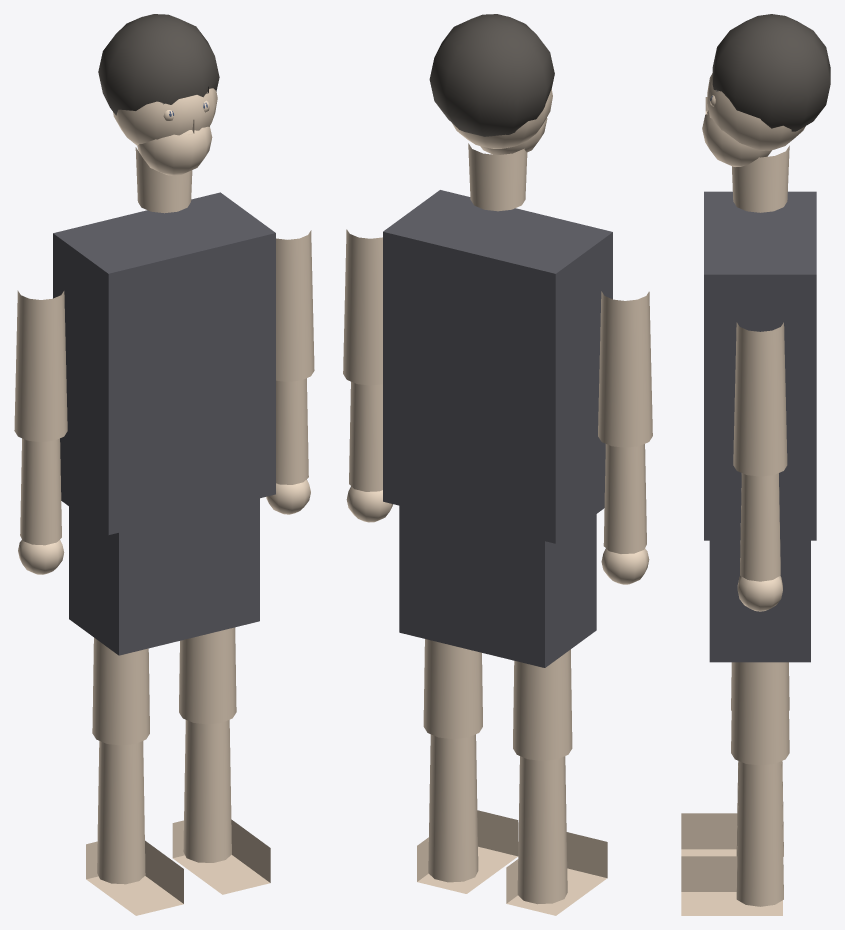
The model's file is body.glb.
3 renders of one model, left to right at view 1: azimuth 30°, elevation 25°; view 2: azimuth 150°, elevation 25°; view 3: azimuth 270°, elevation 25°, orthographic. The views are drawn at different scales.
Parts seen in each view (by area): view 1: Cloth, Skin, Hair; view 2: Cloth, Skin, Hair; view 3: Skin, Cloth, Hair.
Boxes of the visible parts, x1,y1,x2,y2 form: Cloth: (53, 192, 275, 655); Skin: (14, 88, 314, 915); Hair: (98, 14, 219, 115); Cloth: (383, 190, 612, 667); Skin: (343, 89, 652, 915); Hair: (429, 14, 554, 136); Skin: (681, 73, 805, 915); Cloth: (704, 191, 816, 662); Hair: (712, 14, 830, 131).
Bounding box in the file's own units: 0.6097 × 1.69 × 0.2646.
